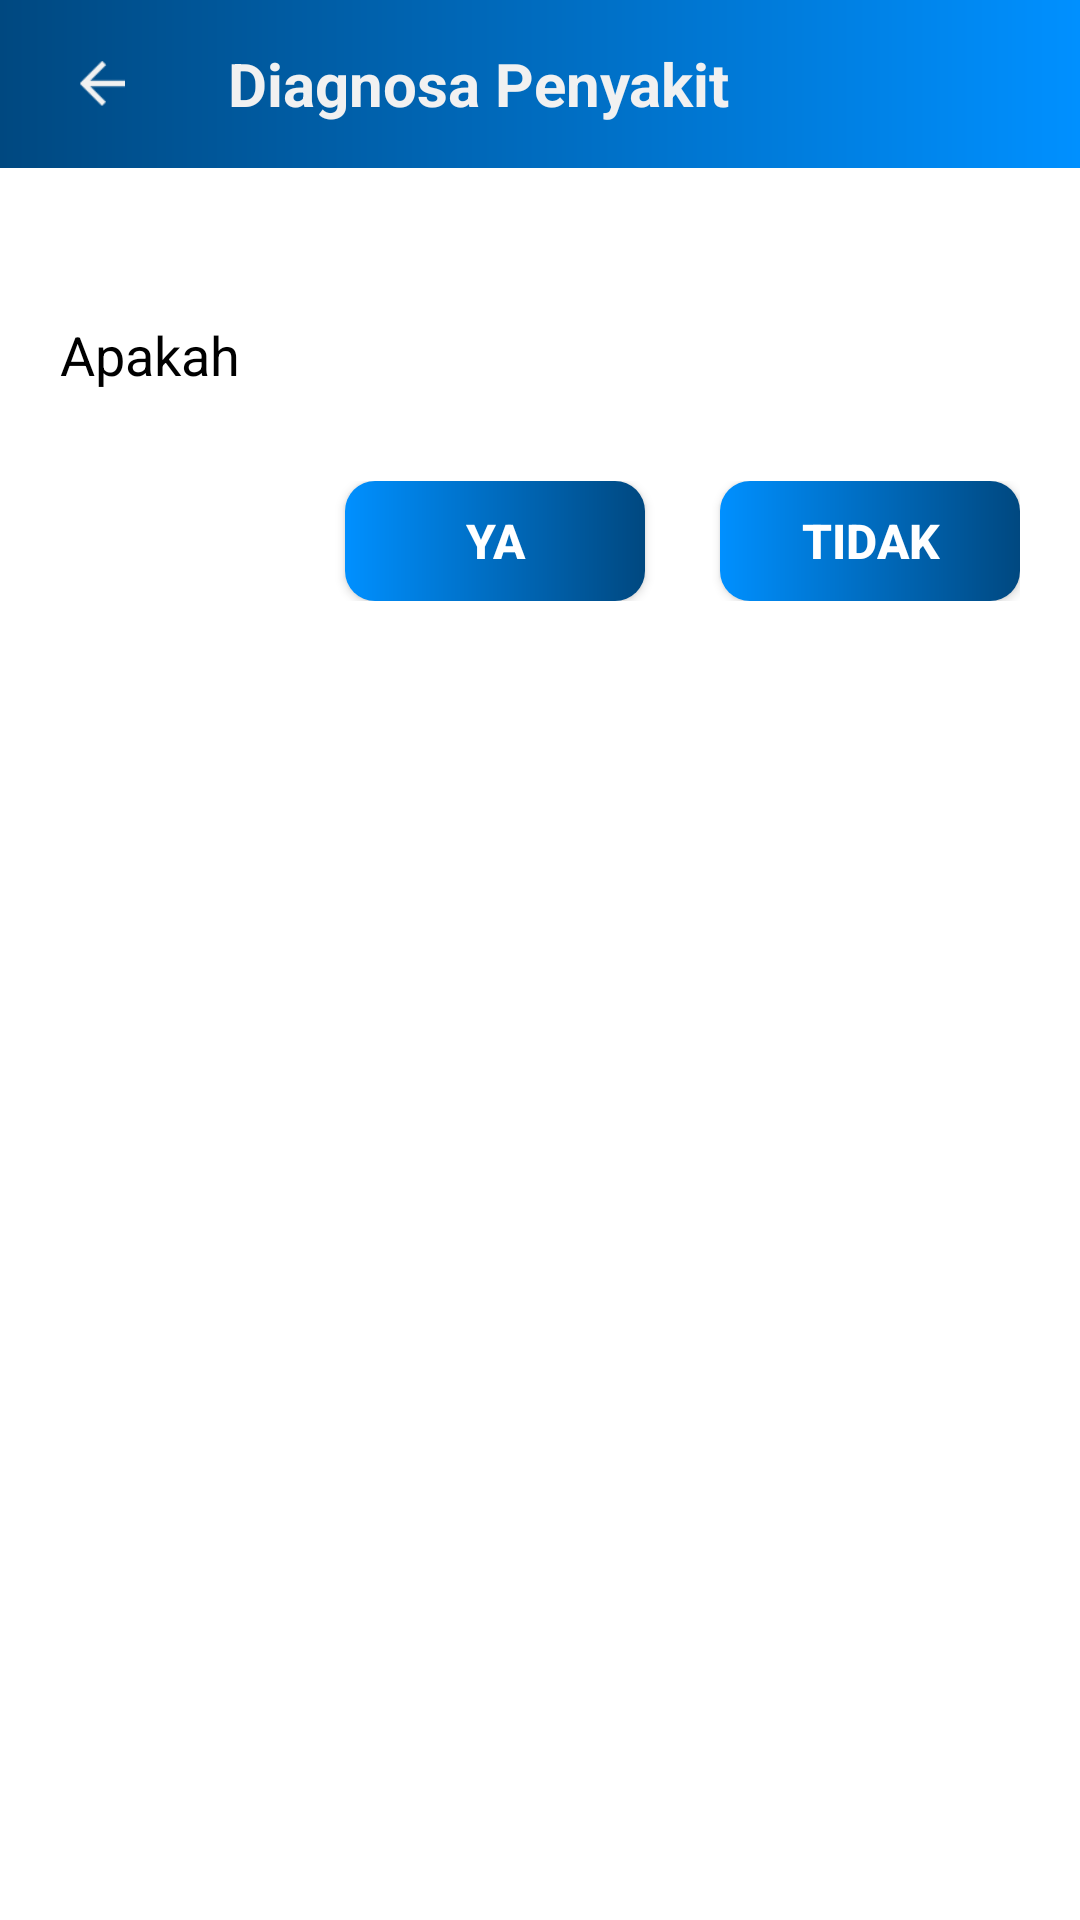

Named icons in this screenshot (1080px x 1920px) and their centers, (x,y):
back: (102,83)
